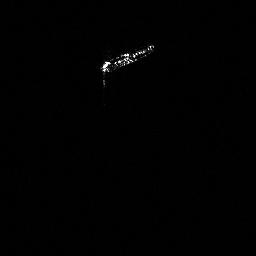ship: (101, 44, 154, 74)
